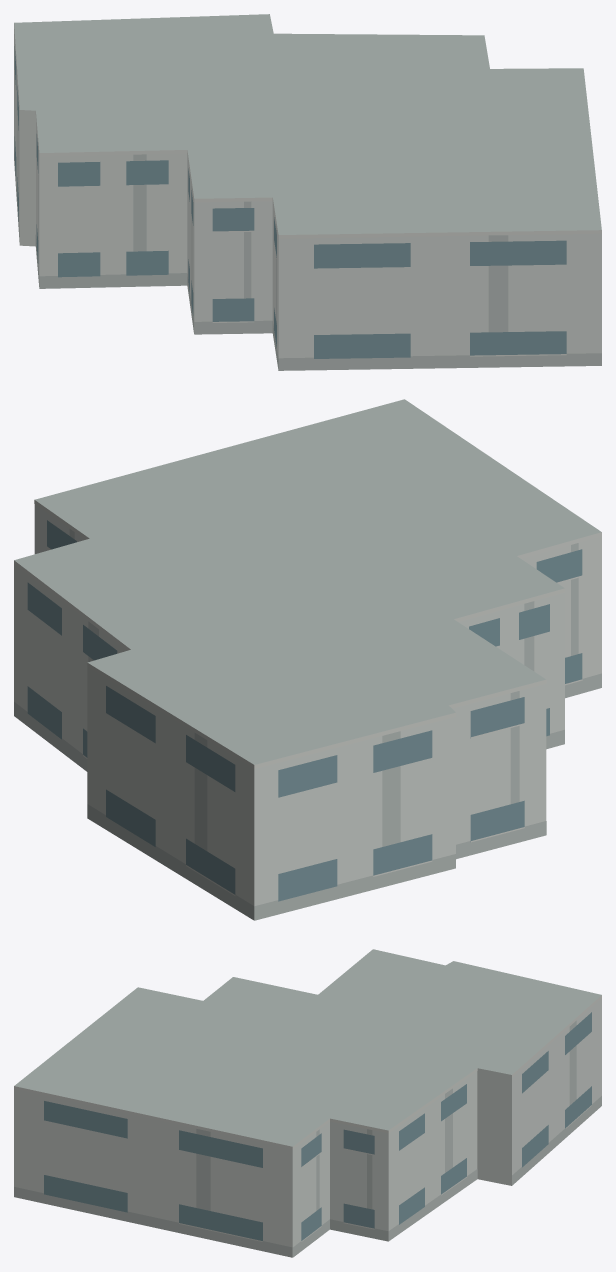
The model's file is survey-upis-32741529.glb.
3 renders of one model, top to bottom at view 1: azimuth 30°, elevation 25°; view 2: azimuth 150°, elevation 25°; view 3: azimuth 270°, elevation 25°, orthographic. The views are drawn at different scales.
Parts seen in each view (by area): view 1: survey-upis-32741529.tmp; view 2: survey-upis-32741529.tmp; view 3: survey-upis-32741529.tmp.
Boxes of the visible parts, x1,y1,x2,y2 form: survey-upis-32741529.tmp: (14,14,601,370); survey-upis-32741529.tmp: (14,399,601,920); survey-upis-32741529.tmp: (14,949,601,1257).
Bounding box in the file's own units: 34.94 × 9.15 × 43.91.
